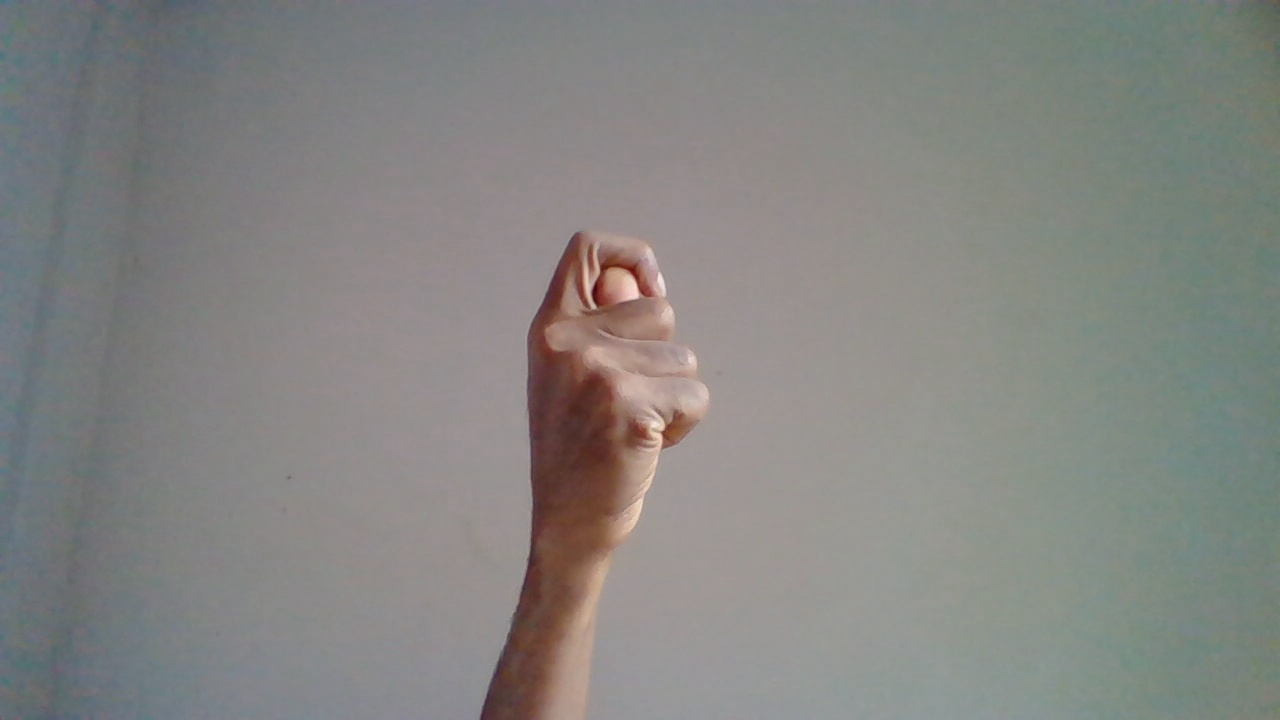che: (526, 228, 714, 661)
